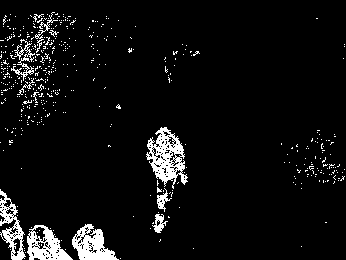person: (147, 123, 188, 235)
